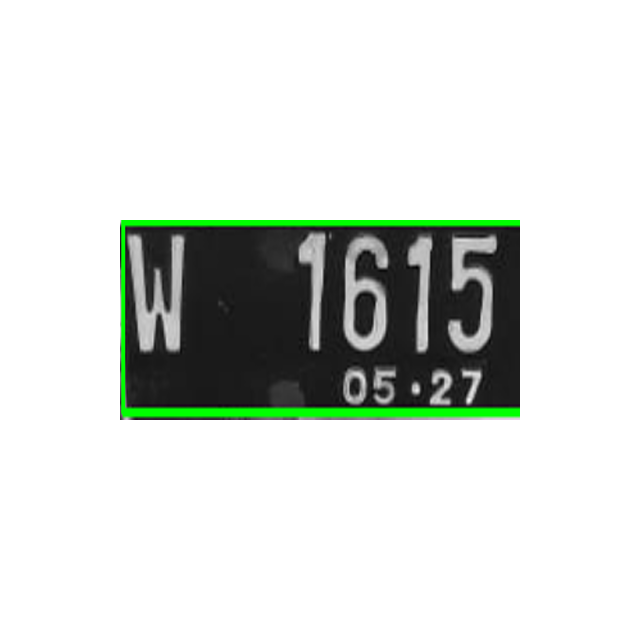contain: (127, 228, 193, 359), (270, 227, 336, 358), (334, 225, 400, 356), (393, 227, 446, 357), (444, 227, 497, 357)
